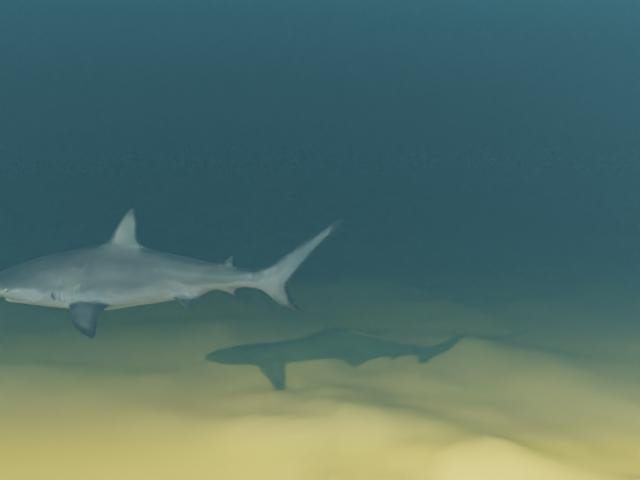Carribean Shark.001: (0, 207, 344, 339)
